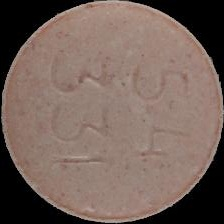0054-0097: (0, 0, 224, 224)
